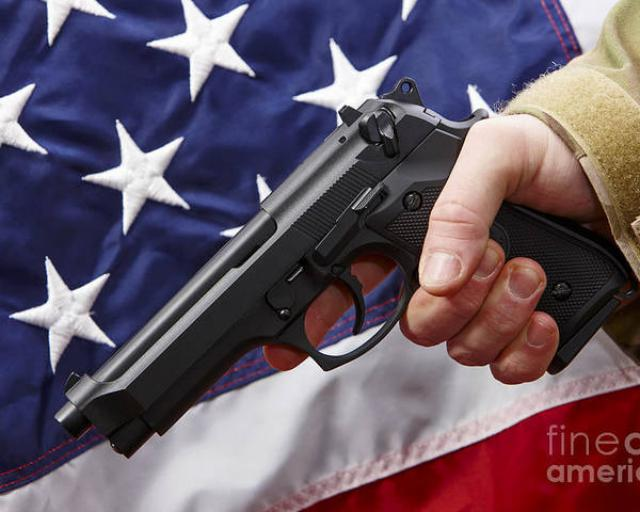handgun: (46, 74, 640, 466)
